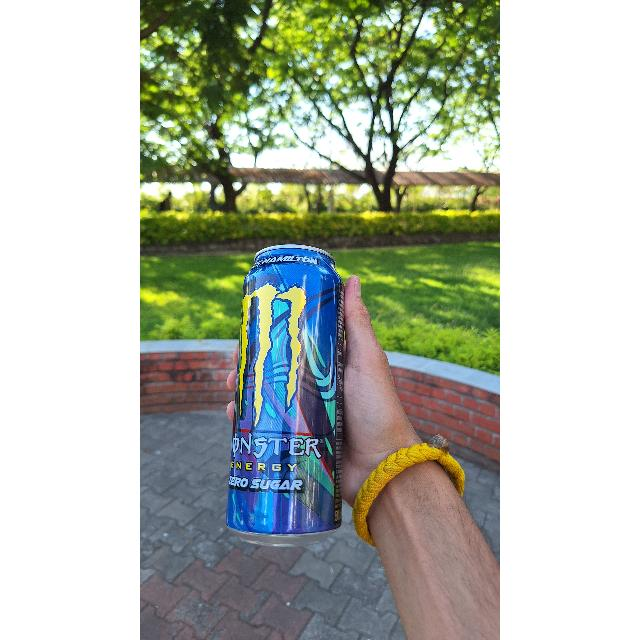Monster LH44: (226, 244, 352, 550)
